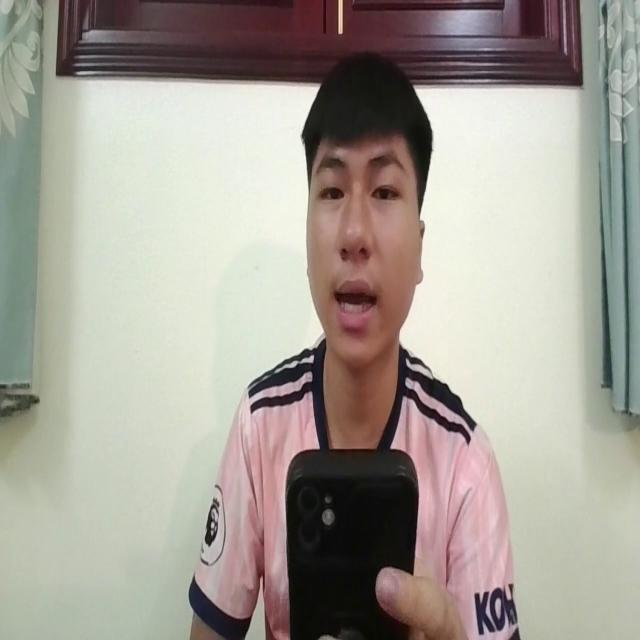phone: (284, 439, 420, 640)
student: (187, 42, 519, 640)
